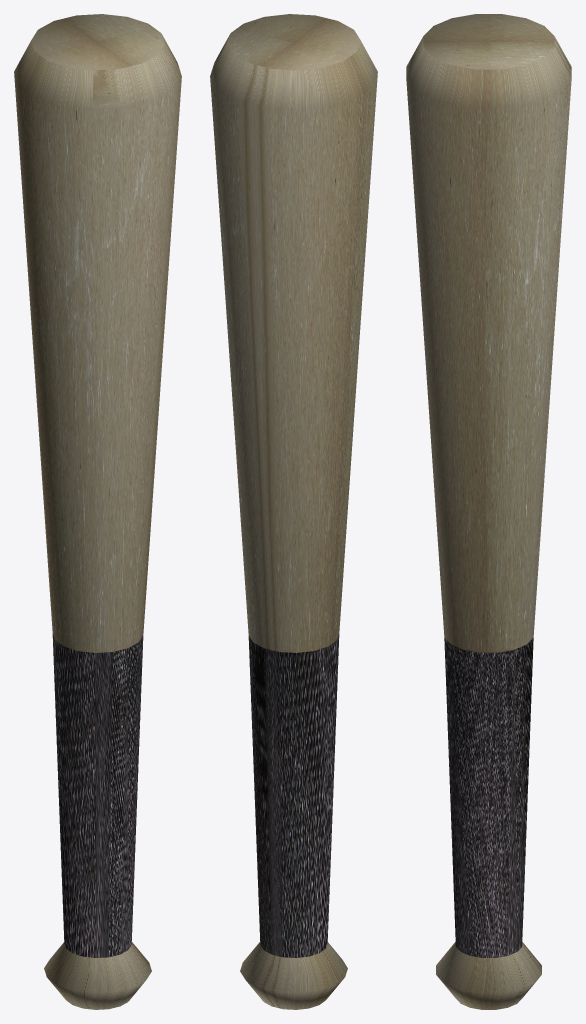
File: bat.gltf
3 renders of one model, left to right at view 1: azimuth 30°, elevation 25°; view 2: azimuth 150°, elevation 25°; view 3: azimuth 270°, elevation 25°, orthographic.
Parts seen in each view (by area): view 1: bat; view 2: bat; view 3: bat.
Part boxes in pixels (left/top/right/bottom): bat: left=14, top=14, right=181, bottom=1009; bat: left=210, top=14, right=377, bottom=1009; bat: left=406, top=14, right=571, bottom=1009.
Size of the model in its own units: 0.9808 by 6.25 by 0.9808.
Materials: 2 (2 with a texture image).
